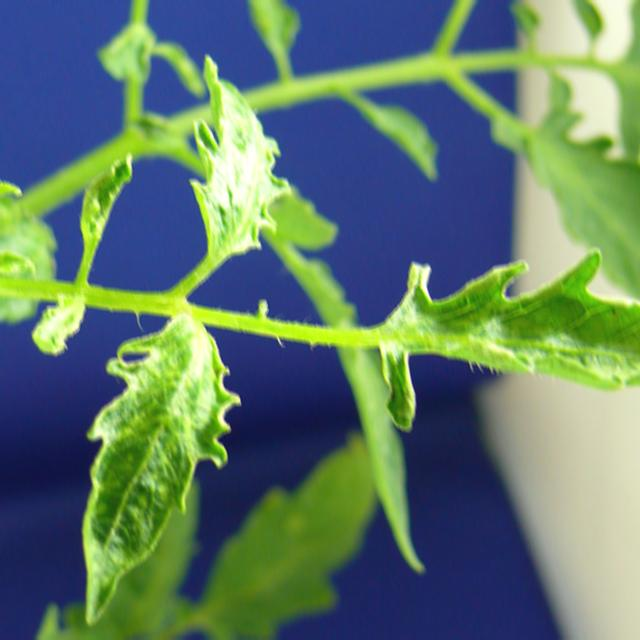Tomato leaf mosaic virus: (49, 312, 257, 634), (350, 265, 640, 422), (178, 47, 299, 267), (0, 288, 16, 531)
